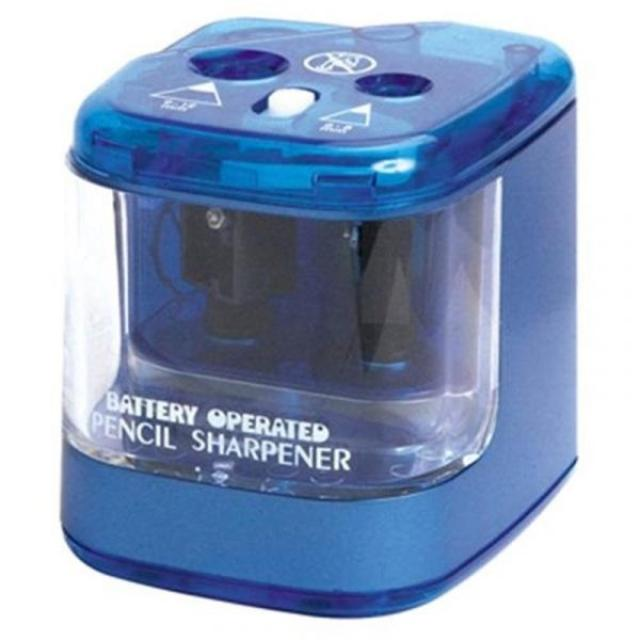pencil_sharpener: (41, 0, 602, 625)
